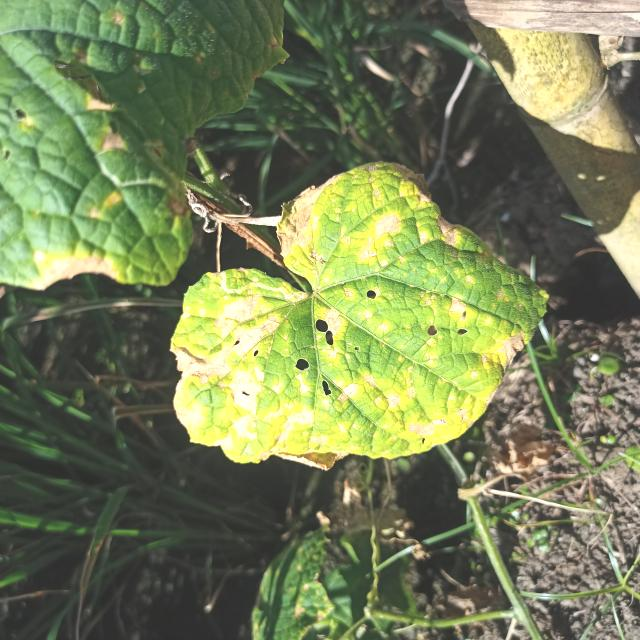disease_cucumber: (176, 162, 527, 477)
